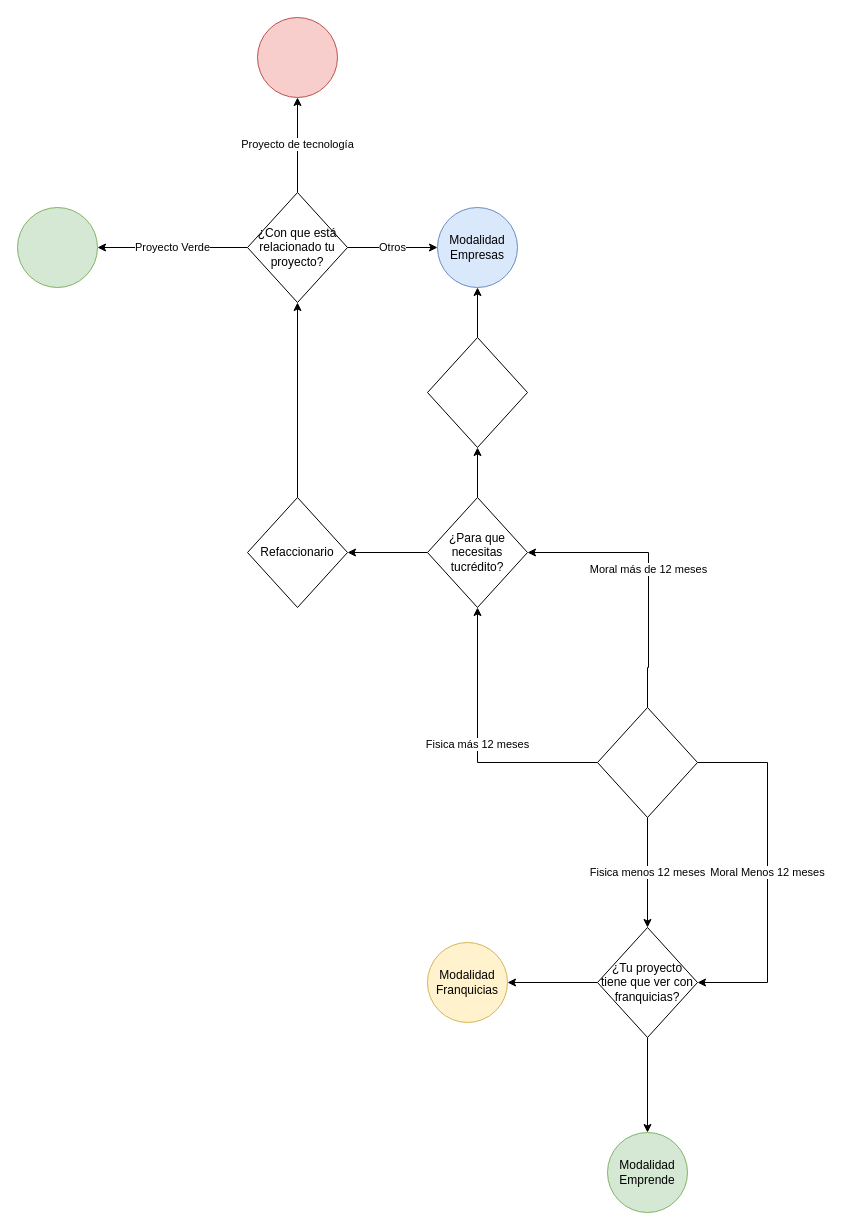
Image size: 842x1230. Some labels were removed from this diagram. Each missing label, with the centre of its shape:
Avío: the point at 477,392
Modalidad Tecnologia: the point at 297,57
Modalidad Verde: the point at 57,247
Que personalidad Juridica tiene y que antiguedad: the point at 647,762
